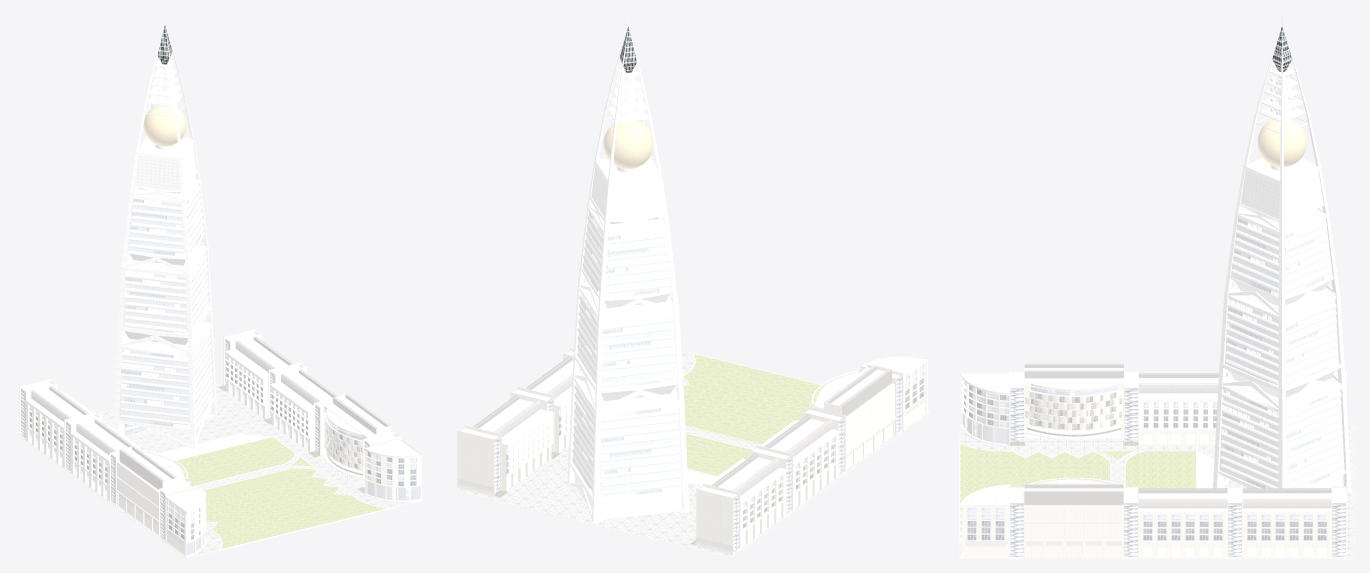
File: alfa.FBX
3 renders of one model, left to right at view 1: azimuth 30°, elevation 25°; view 2: azimuth 150°, elevation 25°; view 3: azimuth 270°, elevation 25°, orthographic. The views are drawn at different scales.
Parts seen in each view (by area): view 1: alfaisaliahbase1; view 2: alfaisaliahbase1; view 3: alfaisaliahbase1.
Boxes of the visible parts, <box> form: alfaisaliahbase1: <box>14,20,423,558</box>; alfaisaliahbase1: <box>452,18,930,558</box>; alfaisaliahbase1: <box>959,14,1355,558</box>.
Size of the model in its own units: 12800 by 21283 by 16000.
Materials: 1 (1 with a texture image).
